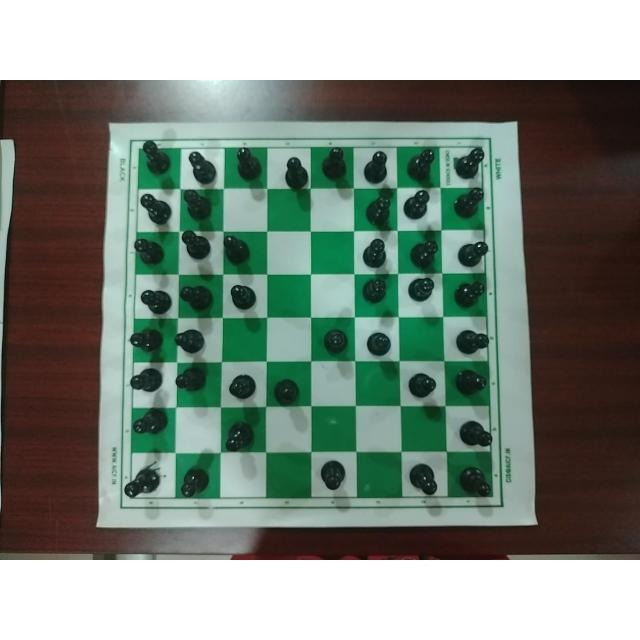black-pawn: (456, 462, 497, 502), (456, 414, 498, 448), (405, 143, 437, 185), (405, 459, 441, 496), (140, 139, 174, 177), (186, 147, 218, 186), (223, 414, 255, 453), (122, 465, 161, 497), (130, 406, 170, 437), (178, 464, 214, 498), (135, 191, 172, 224), (453, 322, 491, 354), (270, 369, 302, 407), (453, 184, 486, 220), (181, 189, 214, 225), (231, 145, 263, 182), (453, 237, 490, 269), (362, 144, 392, 183), (406, 237, 440, 271), (179, 230, 215, 262), (179, 282, 215, 314), (453, 146, 486, 180), (316, 458, 349, 492), (225, 279, 261, 310), (282, 152, 310, 191), (453, 277, 486, 310), (405, 275, 439, 307), (319, 146, 349, 182), (452, 367, 488, 396), (134, 234, 166, 266), (363, 327, 395, 359), (407, 368, 439, 400), (138, 282, 171, 313), (402, 189, 432, 223), (173, 366, 209, 394), (128, 366, 164, 394), (128, 326, 166, 352), (361, 234, 389, 269), (360, 274, 390, 306), (173, 327, 209, 353), (363, 196, 394, 226), (320, 326, 351, 356), (222, 234, 252, 264), (228, 371, 258, 401)
